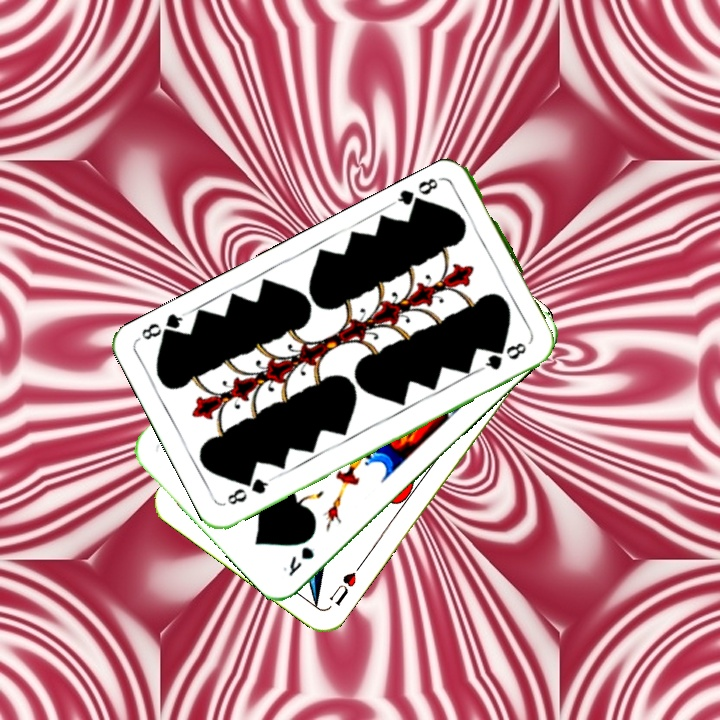G8: (390, 172, 446, 213), (223, 473, 276, 508)
GK: (278, 543, 317, 579)
HU: (325, 559, 365, 609)
